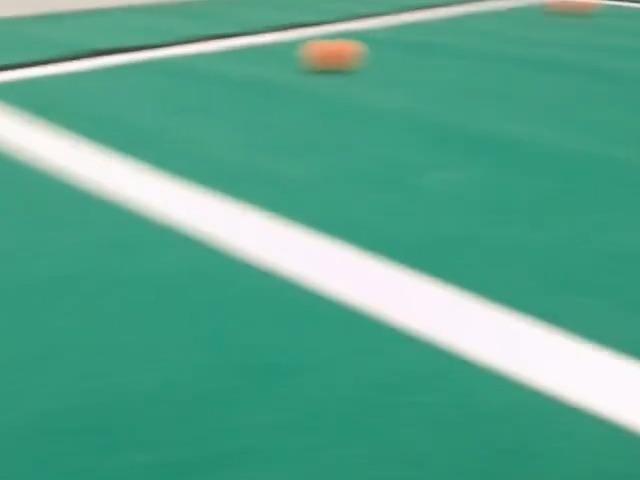Ball: (299, 38, 366, 71)
